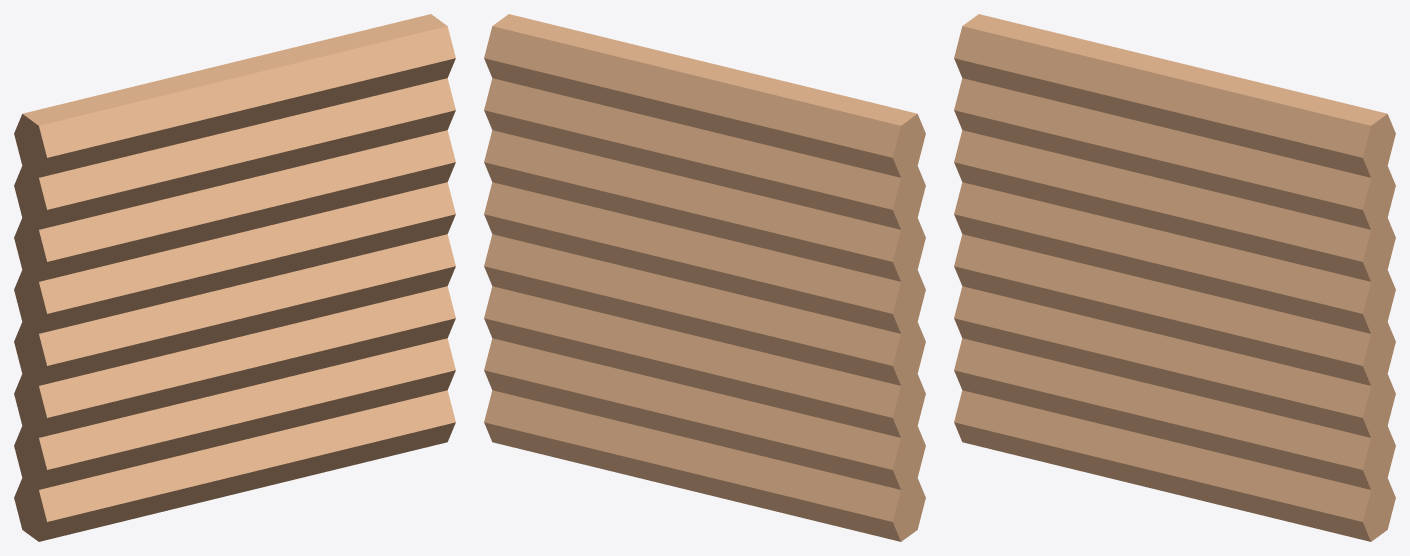
Rendered from cabinWall.glb.
3 renders of one model, left to right at view 1: azimuth 30°, elevation 25°; view 2: azimuth 150°, elevation 25°; view 3: azimuth 330°, elevation 25°, orthographic.
Parts seen in each view (by area): view 1: cabinWall; view 2: cabinWall; view 3: cabinWall.
Part boxes in pixels (x1=…): cabinWall: x1=14, y1=14, x2=455, y2=541; cabinWall: x1=484, y1=14, x2=925, y2=541; cabinWall: x1=954, y1=14, x2=1395, y2=541.
Size of what is drawn, in the model's own units: 1 by 0.9727 by 0.1404.
